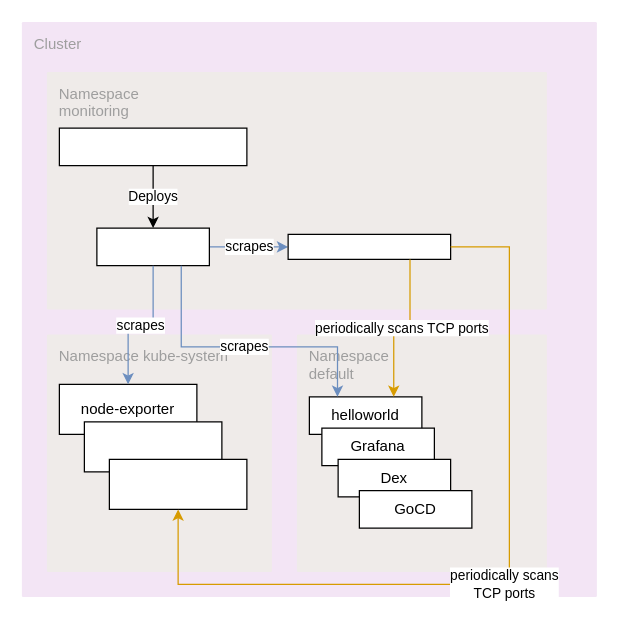
This 618x621 diagram has some shape labels left out. The shapes that lost their labels are listed below. From the top down, each one's centre as x and y in pixels, then its label:
At point 152,146: "prometheus-operator".
At point 152,246: "prometheus".
At point 369,246: "port-scan-exporter".
At point 152,446: "kube-state-metrics".
At point 177,483: "etc...".
